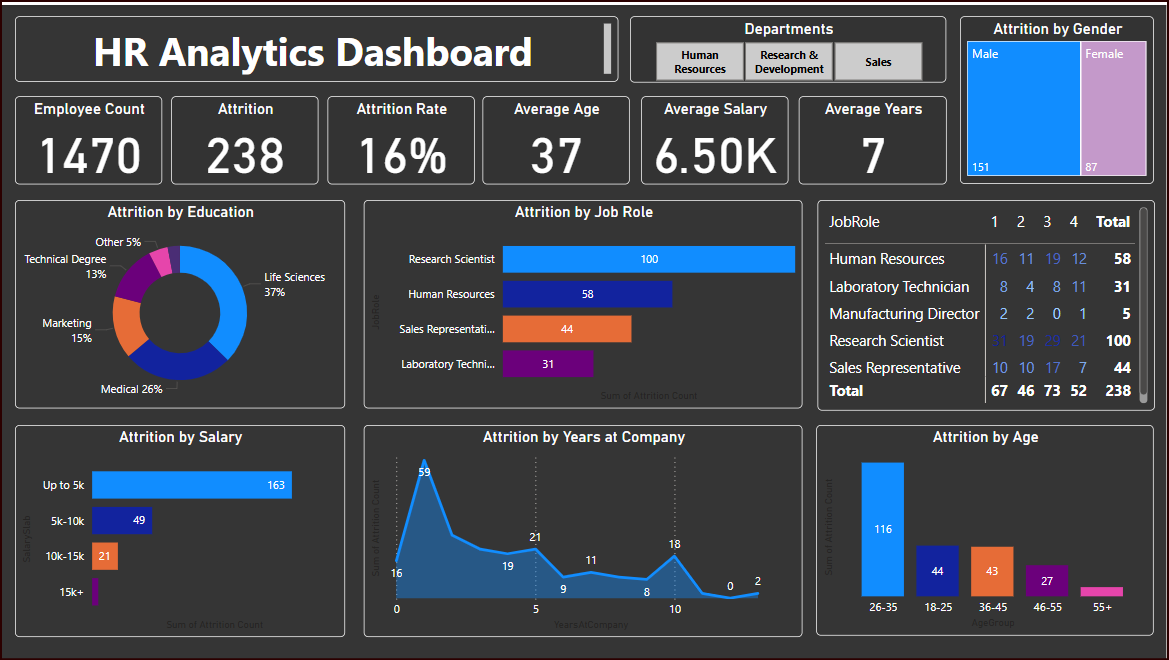

This screenshot's page, from the dashboard's own definition file:
{"tool":"powerbi","page":{"name":"Page 1","canvas":[1280,720],"ordinal":0},"visuals":[{"type":"card","title":"Employee Count","fields":{"Values":["Count(HR_Data.EmpID)"]},"box":[16.8,99.8,161.7,96.6],"z":0},{"type":"card","title":"Attrition","fields":{"Values":["Sum(HR_Data.Attrition Count)"]},"box":[188,99.8,161.7,96.6],"z":1000},{"type":"card","title":"Attrition Rate","fields":{"Values":["HR_Data.Attrition_Rate"]},"box":[360.2,99.8,161.7,96.6],"z":2000},{"type":"card","title":"Average Age","fields":{"Values":["Avg(HR_Data.Age)"]},"box":[530.3,99.8,161.7,96.6],"z":3000},{"type":"card","title":"Average Salary","fields":{"Values":["Avg(HR_Data.MonthlyIncome)"]},"box":[704.6,99.8,161.7,96.6],"z":4000},{"type":"card","title":"Average Years ","fields":{"Values":["Avg(HR_Data.YearsAtCompany)"]},"box":[876.8,99.8,162.8,96.6],"z":5000},{"type":"slicer","title":"Departments","fields":{"Values":["Departments.Department"]},"box":[692,12.6,347.6,72.5],"z":6000},{"type":"treemap","title":"Attrition by Gender","fields":{"Group":["HR_Data.Gender"],"Values":["Sum(HR_Data.Attrition Count)"]},"box":[1054.2,12.6,213.2,183.8],"z":7000},{"type":"donutChart","title":"Attrition by Education","fields":{"Category":["Education.Education"],"Y":["Sum(HR_Data.Attrition Count)"]},"box":[16.8,214.2,362.3,228.9],"z":8000},{"type":"areaChart","title":"Attrition by Years at Company","fields":{"Category":["HR_Data.YearsAtCompany"],"Y":["Sum(HR_Data.Attrition Count)"]},"box":[399,461,482,233.1],"z":9000},{"type":"barChart","title":"Attrition by Job Role","fields":{"Y":["Sum(HR_Data.Attrition Count)"],"Category":["Jobs.JobRole"],"Series":["Jobs.JobRole"]},"box":[399,214.2,482,228.9],"z":10000},{"type":"columnChart","title":"Attrition by Age","fields":{"Category":["HR_Data.AgeGroup"],"Series":["HR_Data.AgeGroup"],"Y":["Sum(HR_Data.Attrition Count)"]},"box":[896.7,461,370.7,231],"z":11000},{"type":"barChart","title":"Attrition by Salary","fields":{"Category":["HR_Data.SalarySlab"],"Y":["Sum(HR_Data.Attrition Count)"],"Series":["HR_Data.SalarySlab"]},"box":[16.8,461,362.3,233.1],"z":12000},{"type":"textbox","box":[16.5,12.6,662.4,72],"z":13000},{"type":"pivotTable","title":"Attrition by Age","fields":{"Values":["Sum(HR_Data.Attrition Count)"],"Rows":["Jobs.JobRole"],"Columns":["HR_Data.JobSatisfaction"]},"box":[896.8,214,370.6,231.5],"z":14000}]}

Visuals, with their boxes in screenshot pixels (x1, y1, x2, y2), scaled from the page's 1280x720 canvas onto the 1169x660 screenshot:
"Employee Count" card: bbox(15, 91, 163, 180)
"Attrition" card: bbox(172, 91, 319, 180)
"Attrition Rate" card: bbox(329, 91, 477, 180)
"Average Age" card: bbox(484, 91, 632, 180)
"Average Salary" card: bbox(643, 91, 791, 180)
"Average Years " card: bbox(801, 91, 949, 180)
"Departments" slicer: bbox(632, 12, 949, 78)
"Attrition by Gender" treemap: bbox(963, 12, 1157, 180)
"Attrition by Education" donutChart: bbox(15, 196, 346, 406)
"Attrition by Years at Company" areaChart: bbox(364, 423, 805, 636)
"Attrition by Job Role" barChart: bbox(364, 196, 805, 406)
"Attrition by Age" columnChart: bbox(819, 423, 1157, 634)
"Attrition by Salary" barChart: bbox(15, 423, 346, 636)
textbox: bbox(15, 12, 620, 78)
"Attrition by Age" pivotTable: bbox(819, 196, 1157, 408)
